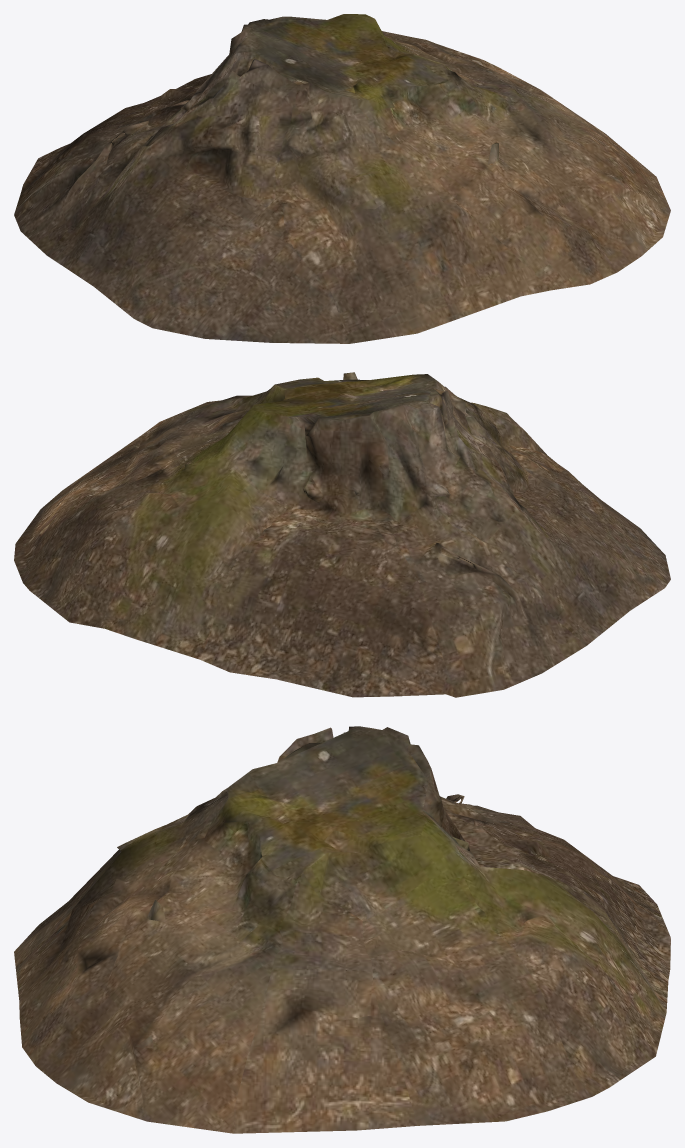
Rendered from tree_stump_02.glb.
The picture shows the model from 3 angles, top to bottom: view 1: azimuth 30°, elevation 25°; view 2: azimuth 150°, elevation 25°; view 3: azimuth 270°, elevation 25°; orthographic projection. The views are drawn at different scales.
Visible parts, largest first — view 1: tree_stump_02; view 2: tree_stump_02; view 3: tree_stump_02.
Part boxes in pixels (x1,y1,x2,y2): tree_stump_02: [14, 14, 670, 343]; tree_stump_02: [14, 372, 670, 697]; tree_stump_02: [14, 726, 670, 1133].
Size of the model in its own units: 1.52 by 0.5184 by 1.39.
1 material, 1 textured.
